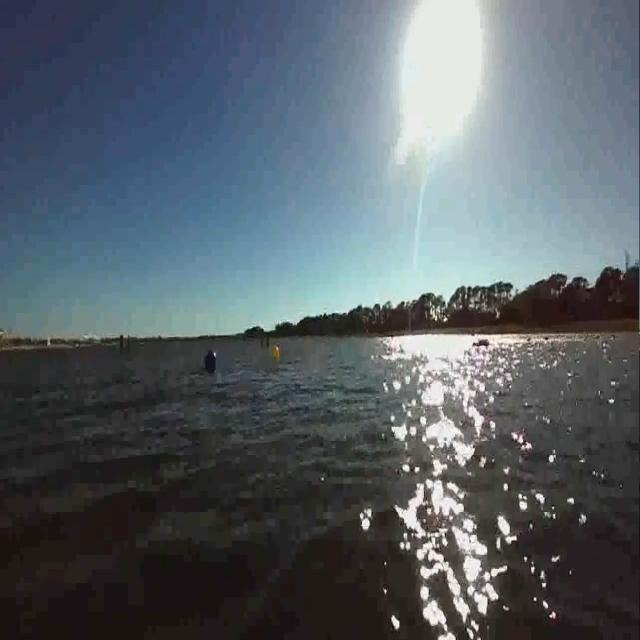blue-buoy: (203, 350, 218, 376)
yellow-buoy: (273, 344, 282, 360)
